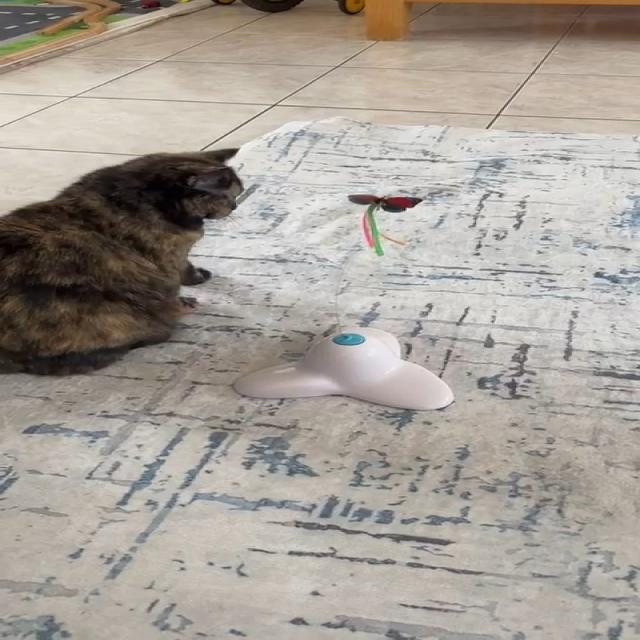authorized: (0, 146, 244, 376)
